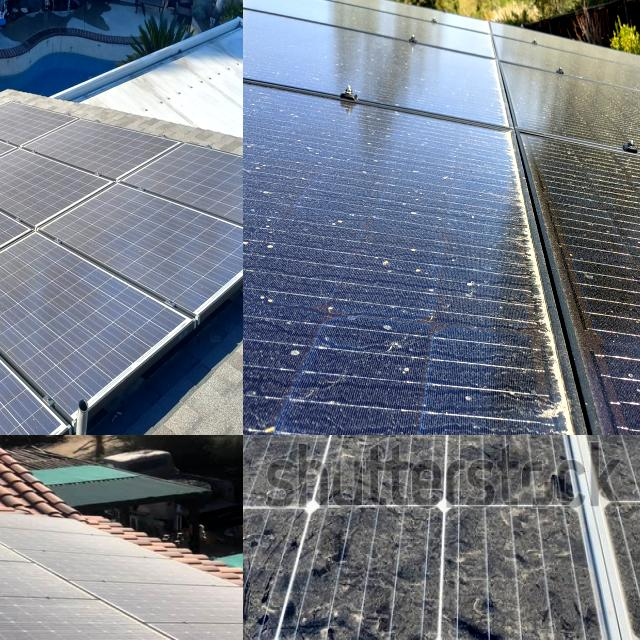dust: (497, 113, 626, 435), (243, 283, 455, 435), (243, 145, 435, 253), (286, 499, 441, 632), (444, 515, 580, 640), (243, 25, 471, 80), (243, 435, 525, 472), (243, 503, 316, 640), (0, 590, 168, 640), (283, 435, 516, 462), (335, 435, 441, 486), (351, 435, 549, 462), (468, 435, 557, 490), (243, 435, 326, 491), (0, 547, 108, 587), (243, 435, 323, 474), (0, 494, 77, 531), (541, 435, 640, 460), (596, 435, 640, 489), (243, 435, 304, 470), (0, 184, 29, 243), (243, 435, 268, 489)
